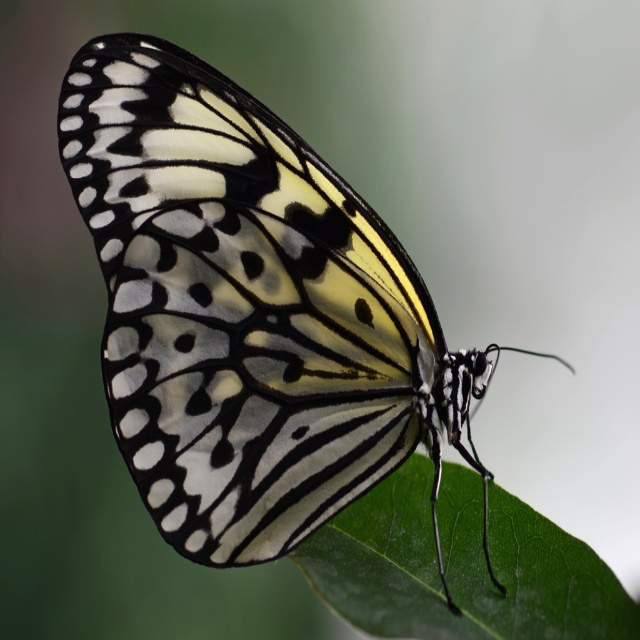Butterfly: (77, 34, 573, 640)
